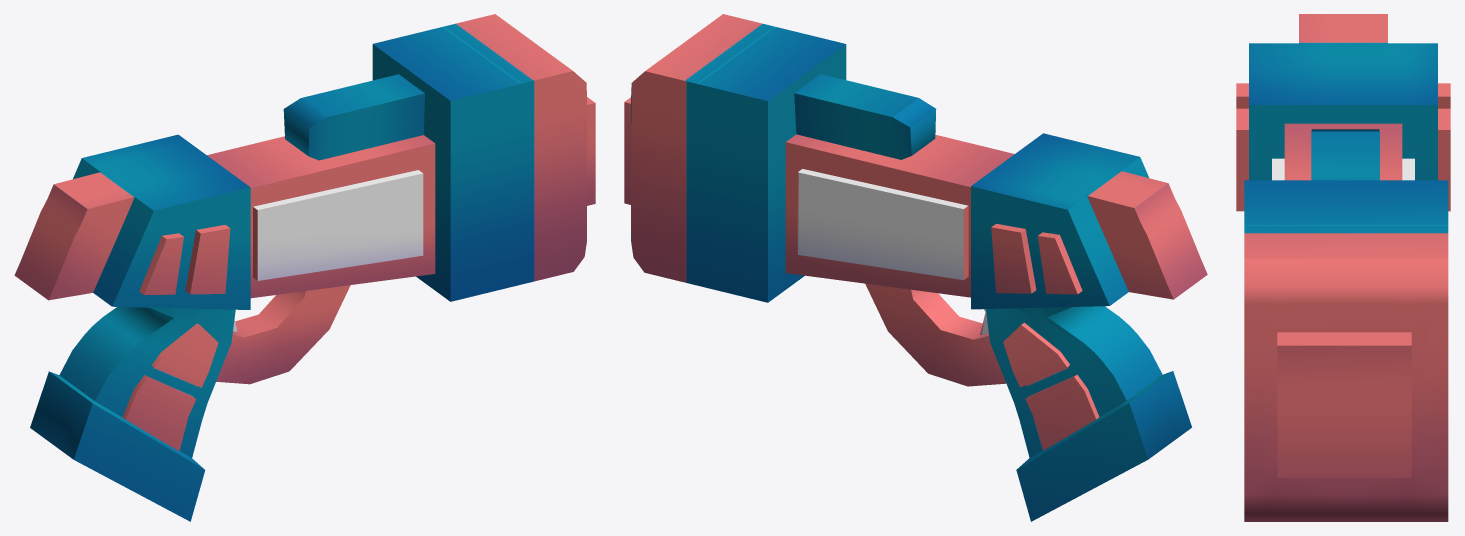
Rendered from Gun_low.fbx.
3 renders of one model, left to right at view 1: azimuth 30°, elevation 25°; view 2: azimuth 150°, elevation 25°; view 3: azimuth 270°, elevation 25°, orthographic. The views are drawn at different scales.
Parts seen in each view (by area): view 1: polySurface4; view 2: polySurface4; view 3: polySurface4.
Part boxes in pixels (box(x1,y1,x2,y2)): polySurface4: box(14, 14, 595, 521); polySurface4: box(624, 14, 1207, 521); polySurface4: box(1236, 14, 1450, 521).
Size of the model in its own units: 16.35 by 10.68 by 4.3.
Materials: 1 (1 with a texture image).
